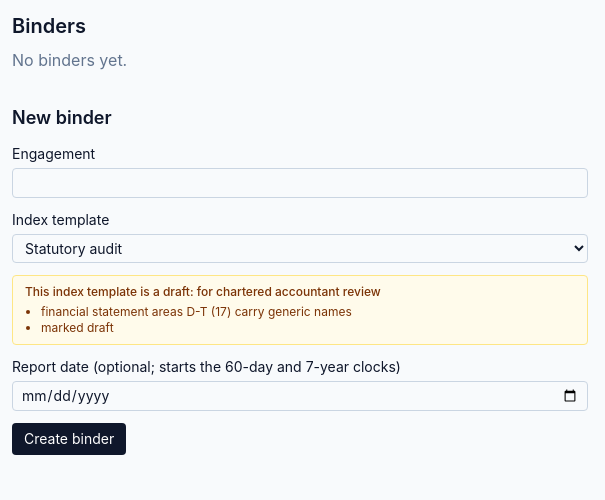
Test: a refused creation shows the backend's reason
The image size is (605, 500).
Check: the text "No binders yet." is shown, box x1=12 y1=50 x2=127 y2=70
In the field labelled "Engagement": coordinates (300, 183) x1=12 y1=168 x2=588 y2=198, type "ENG-1"
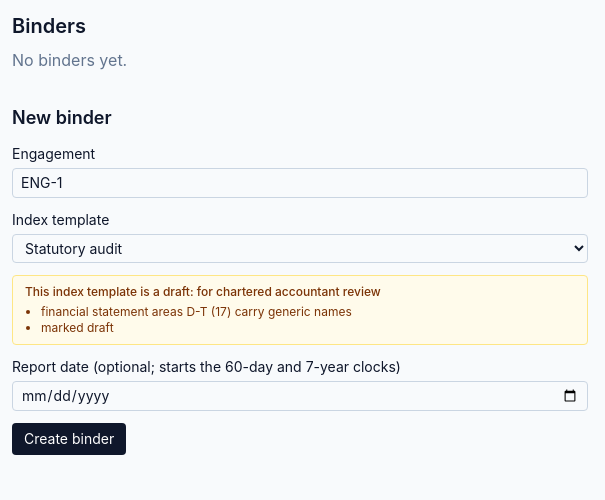
Click the button "Create binder": coordinates (69, 439) x1=12 y1=423 x2=126 y2=455
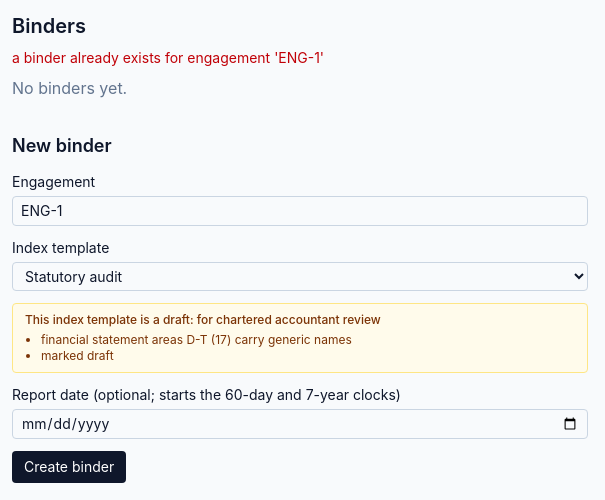
Check: the message shows "already exists", box x1=12 y1=49 x2=324 y2=66
